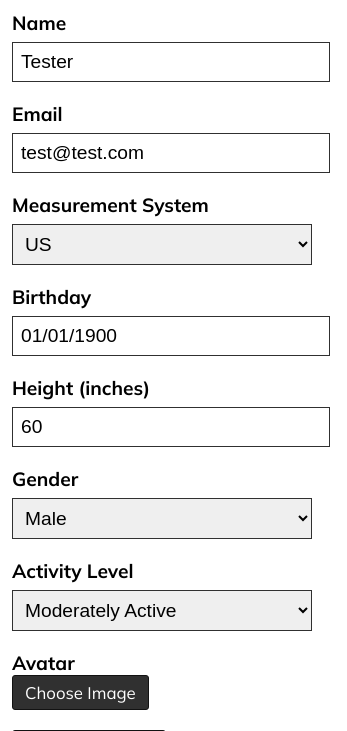
Test: <EditProfileForm /> › it changes the height label when the measurement system is set to metric
Select "Metric" in the dropdown labelled "Measurement System" at (162,244), box left=12, top=224, right=312, bottom=265
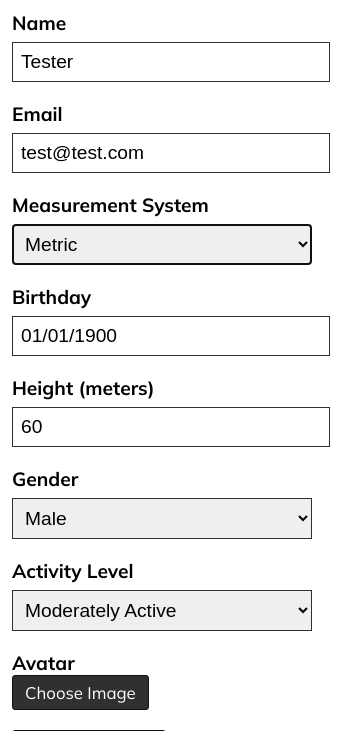
expect the field labelled "Height (meters)" is shown: met, box left=12, top=407, right=330, bottom=447
expect the label labelled "Height (inches)" is gone: met
